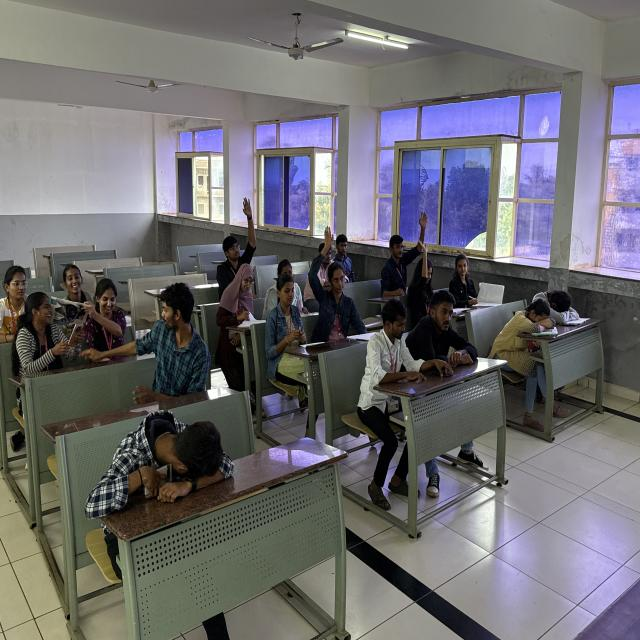Hand Rising: (217, 188, 277, 290), (310, 235, 364, 344), (384, 197, 430, 294), (407, 248, 435, 329)
Sleeping: (82, 409, 228, 521), (491, 310, 545, 378), (533, 278, 592, 340)
